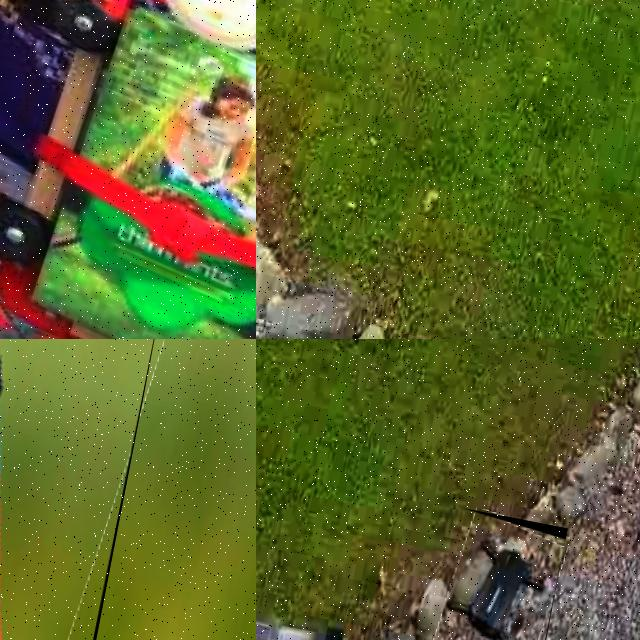0: (433, 508, 568, 640)
drone: (0, 0, 256, 339), (0, 339, 176, 640)
